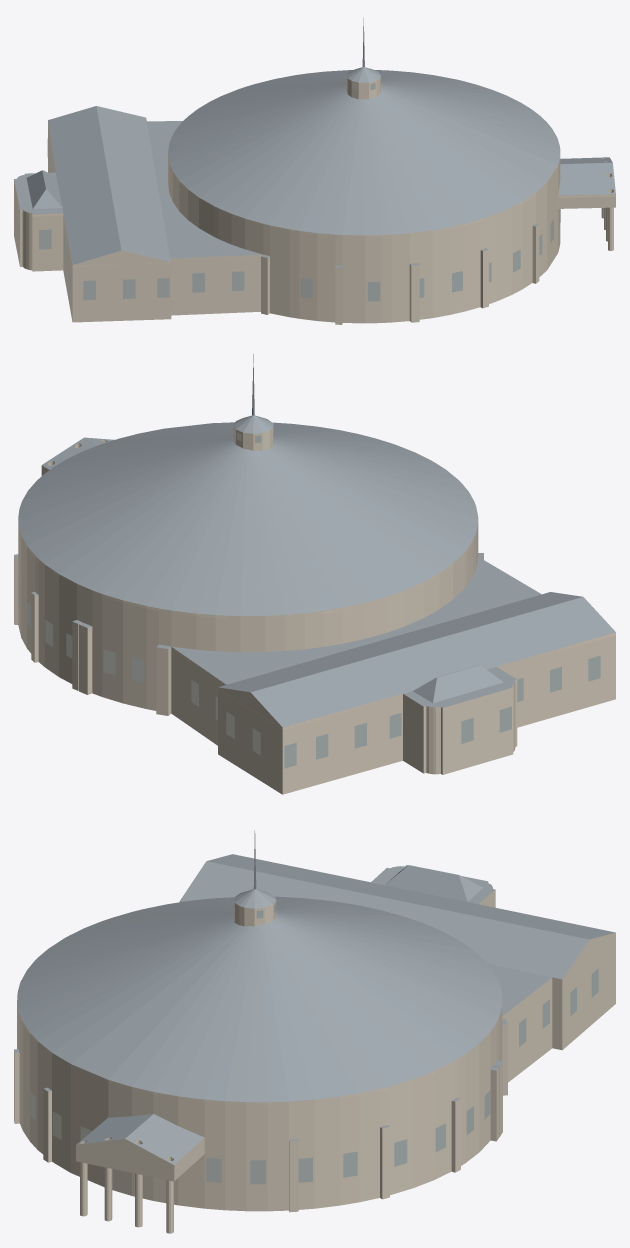
3 renders of one model, top to bottom at view 1: azimuth 30°, elevation 25°; view 2: azimuth 150°, elevation 25°; view 3: azimuth 270°, elevation 25°, orthographic. The views are drawn at different scales.
Parts seen in each view (by area): view 1: roof, stone, window, trim; view 2: roof, stone, window, trim; view 3: roof, stone, window.
Part boxes in pixels (x1,y1,x2,y2): roof: (14, 17, 615, 267); stone: (14, 76, 615, 324); window: (15, 83, 560, 301); trim: (21, 125, 615, 267); roof: (14, 354, 615, 727); stone: (14, 424, 615, 794); window: (18, 428, 600, 768); trim: (18, 465, 615, 729); roof: (14, 830, 615, 1164); stone: (14, 882, 615, 1233); window: (19, 903, 598, 1184).
Bounding box in the file's own units: 61.14 × 26 × 50.03.
